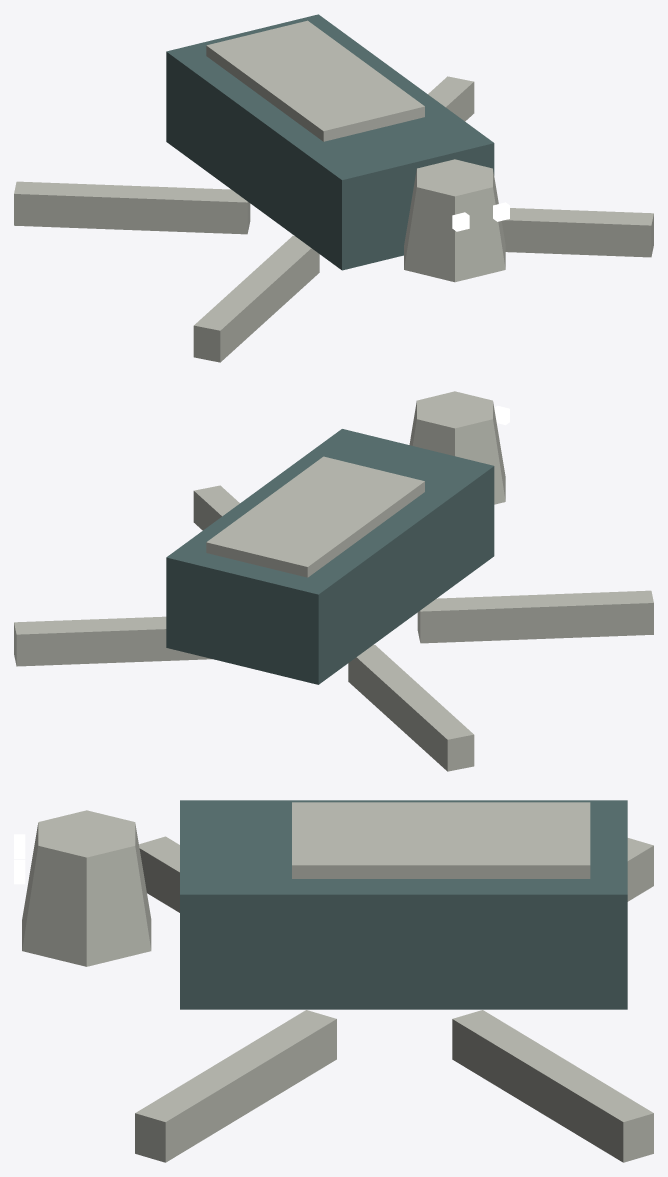
Rendered from shore_crawler.glb.
The picture shows the model from 3 angles, top to bottom: view 1: azimuth 30°, elevation 25°; view 2: azimuth 150°, elevation 25°; view 3: azimuth 270°, elevation 25°; orthographic projection. The views are drawn at different scales.
Visible parts, largest first — view 1: shore_crawler; view 2: shore_crawler; view 3: shore_crawler.
Boxes of the visible parts, x1,y1,x2,y2 form: shore_crawler: [14, 14, 653, 362]; shore_crawler: [14, 391, 653, 771]; shore_crawler: [14, 800, 653, 1162].
Size of the model in its own units: 1.81 by 0.55 by 1.72.
